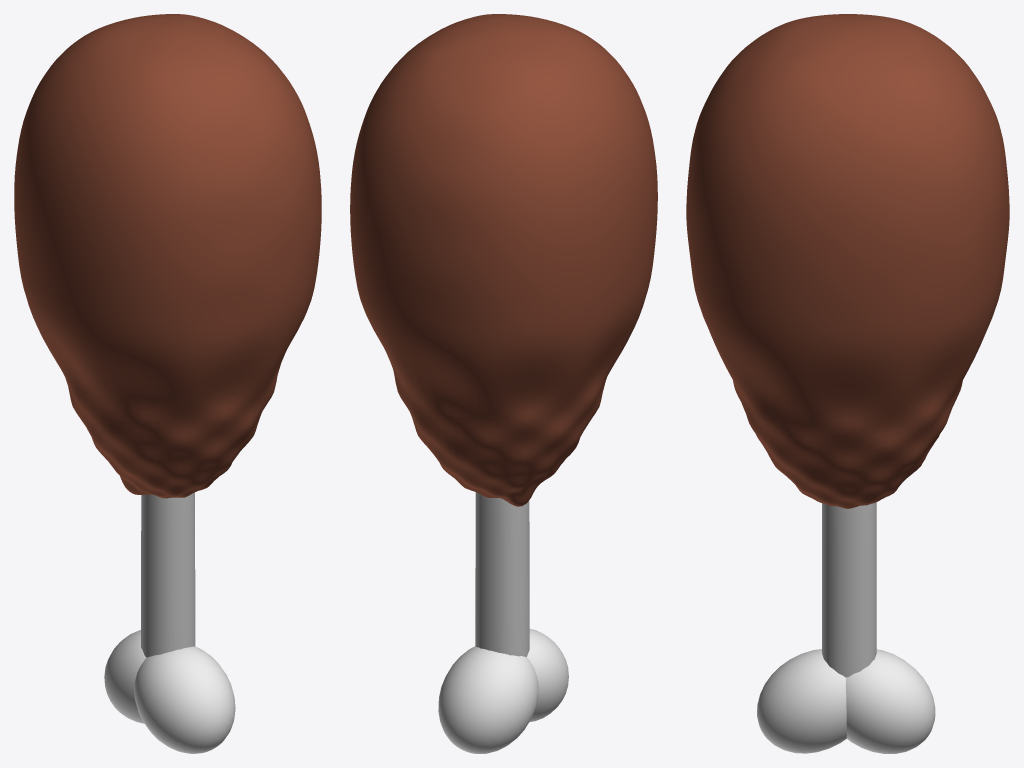
Rendered from chickenLeg.fbx.
The picture shows the model from 3 angles, left to right: view 1: azimuth 30°, elevation 25°; view 2: azimuth 150°, elevation 25°; view 3: azimuth 270°, elevation 25°; orthographic projection. The views are drawn at different scales.
Visible parts, largest first — view 1: Cubo.001, Cubo, Esfera, Esfera.001; view 2: Cubo.001, Cubo, Esfera.001, Esfera; view 3: Cubo.001, Cubo, Esfera, Esfera.001.
Boxes of the visible parts, x1=… form: Cubo.001: x1=14, y1=14, x2=321, y2=498; Cubo: x1=141, y1=492, x2=195, y2=657; Esfera: x1=134, y1=646, x2=235, y2=753; Esfera.001: x1=104, y1=630, x2=146, y2=723; Cubo.001: x1=350, y1=14, x2=657, y2=506; Cubo: x1=475, y1=492, x2=529, y2=656; Esfera.001: x1=438, y1=646, x2=538, y2=753; Esfera: x1=527, y1=629, x2=568, y2=721; Cubo.001: x1=686, y1=14, x2=1009, y2=508; Cubo: x1=822, y1=502, x2=876, y2=677; Esfera: x1=757, y1=649, x2=846, y2=753; Esfera.001: x1=845, y1=649, x2=935, y2=753.
Size of the model in its own units: 620 by 1621 by 660.
